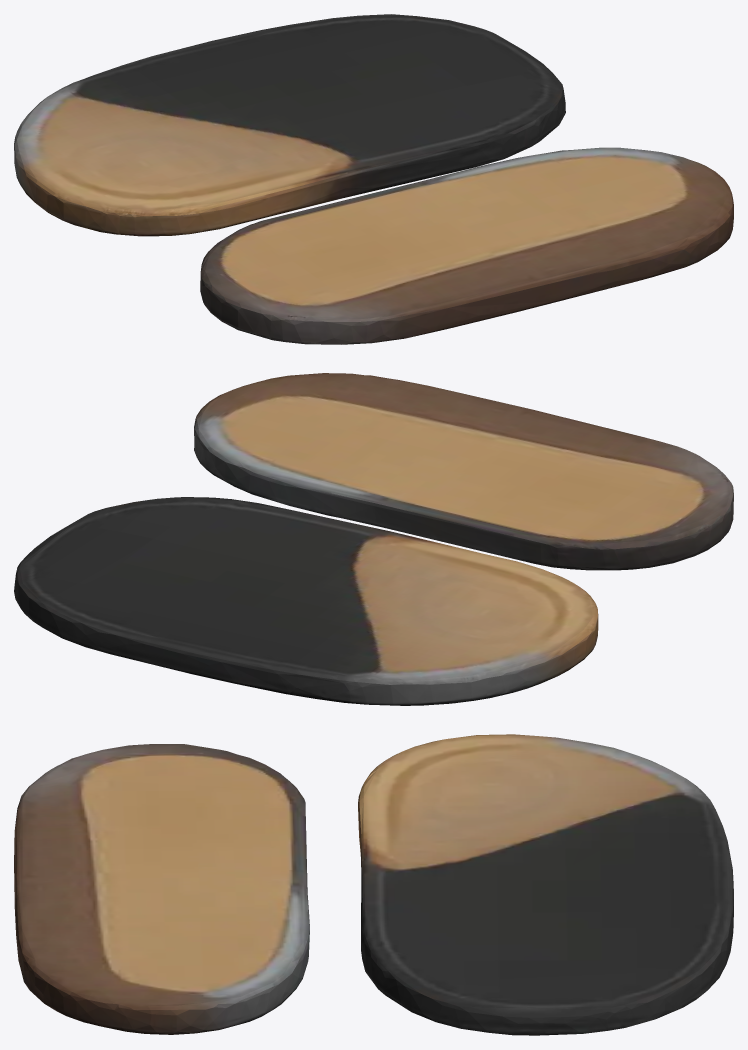
Rendered from insoles_pair.glb.
3 views of the same model, one above another, from view 1: azimuth 30°, elevation 25°; view 2: azimuth 150°, elevation 25°; view 3: azimuth 270°, elevation 25° (orthographic). The views are drawn at different scales.
Visible parts, largest first — view 1: insoles_pair; view 2: insoles_pair; view 3: insoles_pair.
Part boxes in pixels (box(x1,y1,x2,y2)): insoles_pair: box(14, 14, 733, 344); insoles_pair: box(14, 373, 733, 705); insoles_pair: box(14, 734, 733, 1035).
Bounding box in the file's own units: 0.397 × 0.0218 × 0.4373.
Materials: 1 (1 with a texture image).
